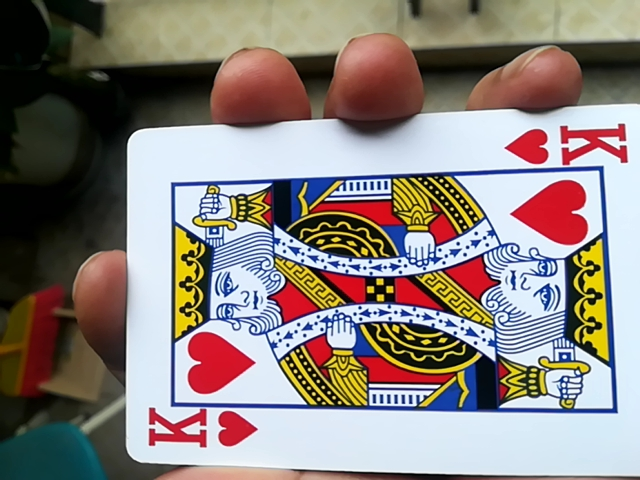hx k: (114, 117, 635, 480)
